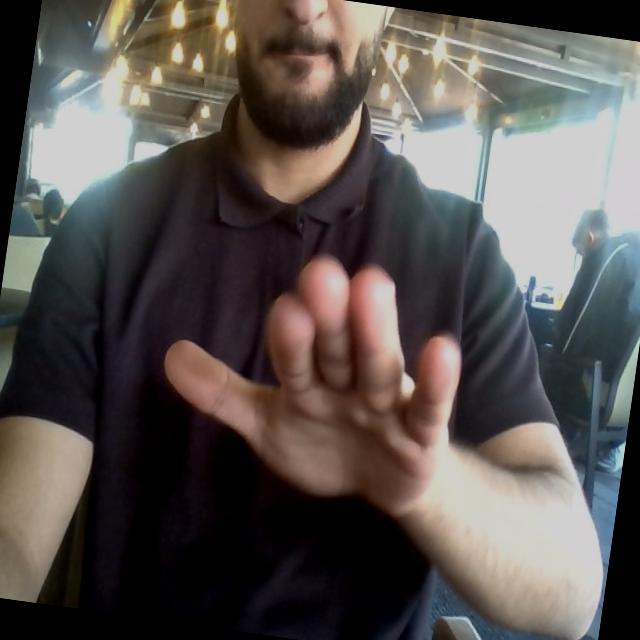Hand: (165, 256, 460, 515)
